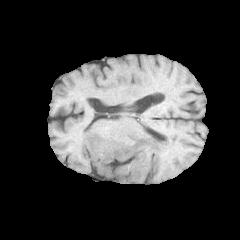glioma: (79, 128, 180, 178)
